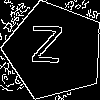Z: (29, 25, 64, 72)
